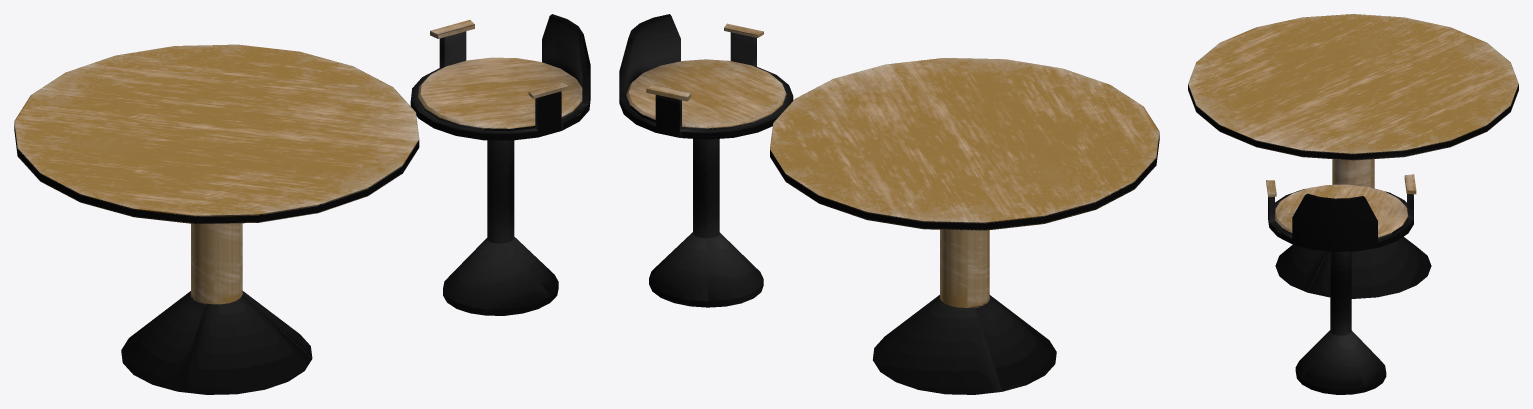
The model's file is Caffee_Sitting_Single.fbx.
The picture shows the model from 3 angles, left to right: view 1: azimuth 30°, elevation 25°; view 2: azimuth 150°, elevation 25°; view 3: azimuth 270°, elevation 25°; orthographic projection. The views are drawn at different scales.
Visible parts, largest first — view 1: Caffee_Sitting; view 2: Caffee_Sitting; view 3: Caffee_Sitting.
Boxes of the visible parts, x1,y1,x2,y2 form: Caffee_Sitting: [14, 14, 590, 394]; Caffee_Sitting: [619, 14, 1159, 394]; Caffee_Sitting: [1188, 14, 1518, 394].
Bounding box in the file's own units: 69.78 × 31.62 × 46.39.
Materials: 1 (1 with a texture image).
